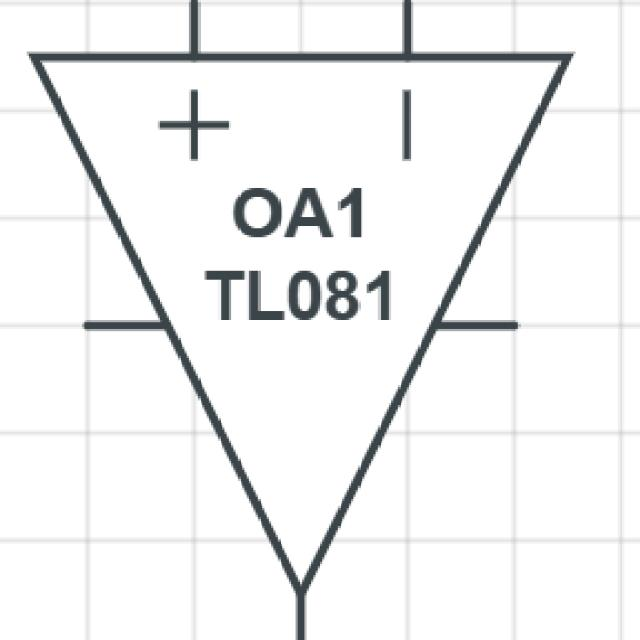ic: (25, 6, 619, 637)
